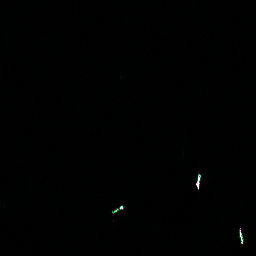ship: (193, 171, 204, 190), (109, 203, 125, 215), (237, 231, 245, 246)
